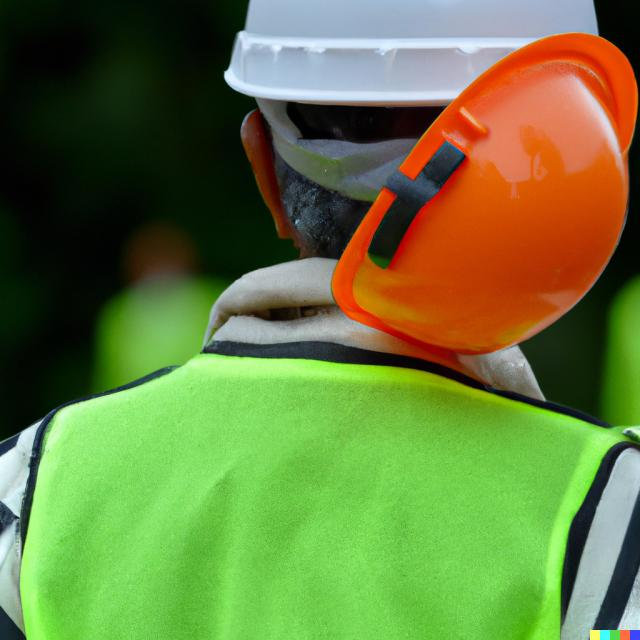Reflective-Jacket: (3, 359, 639, 640)
Safety-Helmet: (319, 29, 640, 359), (224, 1, 606, 102)
